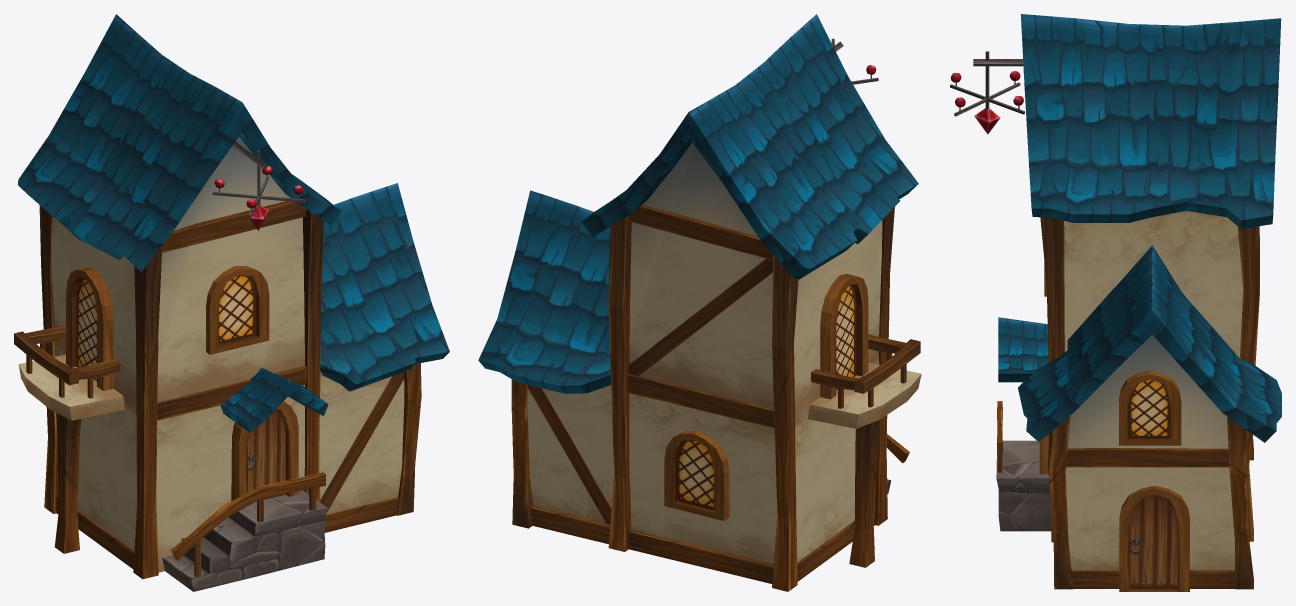
The model's file is Fantasy_House_6.FBX.
3 renders of one model, left to right at view 1: azimuth 30°, elevation 25°; view 2: azimuth 150°, elevation 25°; view 3: azimuth 270°, elevation 25°, orthographic. The views are drawn at different scales.
Visible parts, largest first — view 1: Fantasy_House_6; view 2: Fantasy_House_6; view 3: Fantasy_House_6.
Boxes of the visible parts, <box> form: Fantasy_House_6: <box>14,14,449,591</box>; Fantasy_House_6: <box>478,14,921,591</box>; Fantasy_House_6: <box>950,14,1281,591</box>.
Bounding box in the file's own units: 292 × 360 × 225.
Materials: 1 (1 with a texture image).
